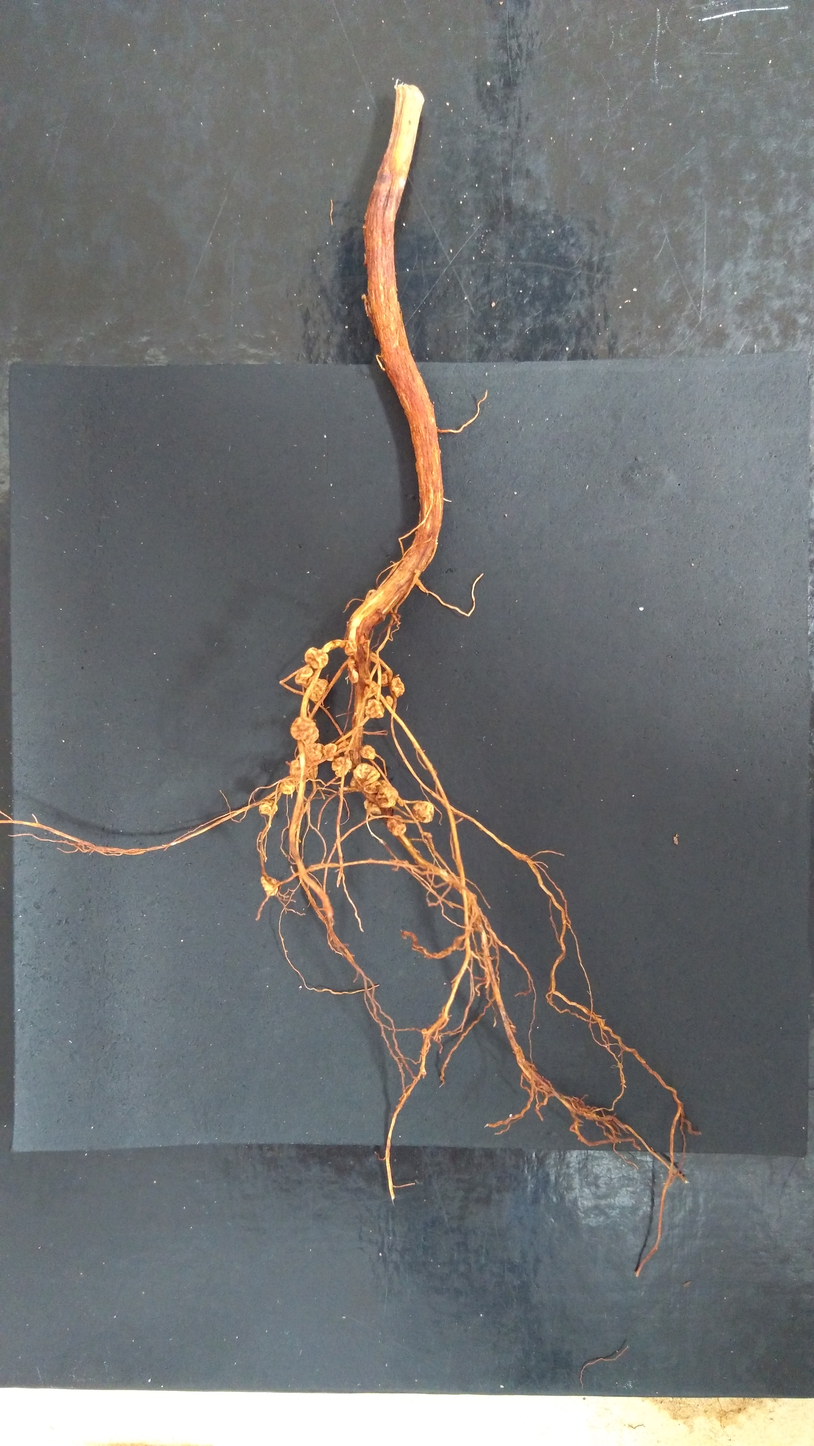nodule: (288, 714, 321, 745), (351, 762, 381, 789), (375, 780, 399, 810), (302, 646, 331, 670), (411, 799, 435, 826), (384, 813, 409, 837), (308, 676, 329, 704), (364, 698, 386, 721), (330, 755, 352, 778), (260, 874, 279, 898), (389, 673, 406, 699), (294, 667, 314, 689), (257, 799, 280, 817), (345, 658, 360, 685), (362, 796, 382, 816), (362, 679, 381, 699), (322, 741, 338, 764), (305, 743, 323, 762), (359, 742, 376, 762), (278, 778, 296, 796), (361, 780, 383, 793), (288, 759, 301, 780), (344, 638, 358, 657), (306, 764, 319, 782), (379, 669, 390, 688), (383, 694, 394, 709)
